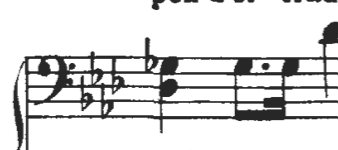bass_clef: (31, 50, 81, 107)
flat: (108, 51, 129, 97), (86, 49, 106, 91), (76, 73, 96, 114), (98, 82, 115, 126)
